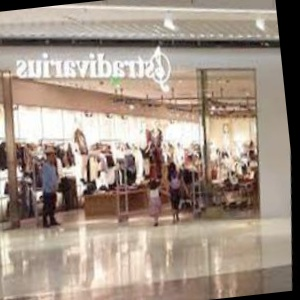stradivarius: (156, 7, 199, 46)
